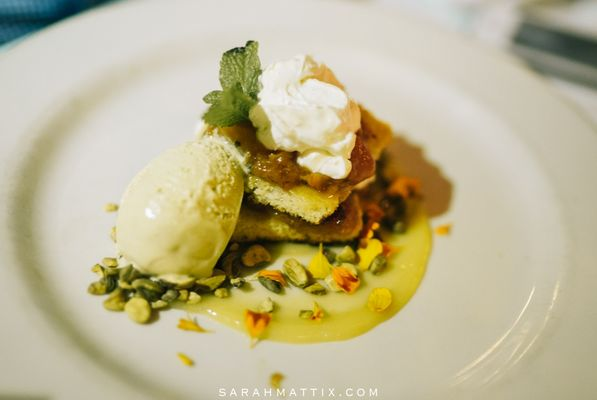curry: (201, 41, 264, 128)
